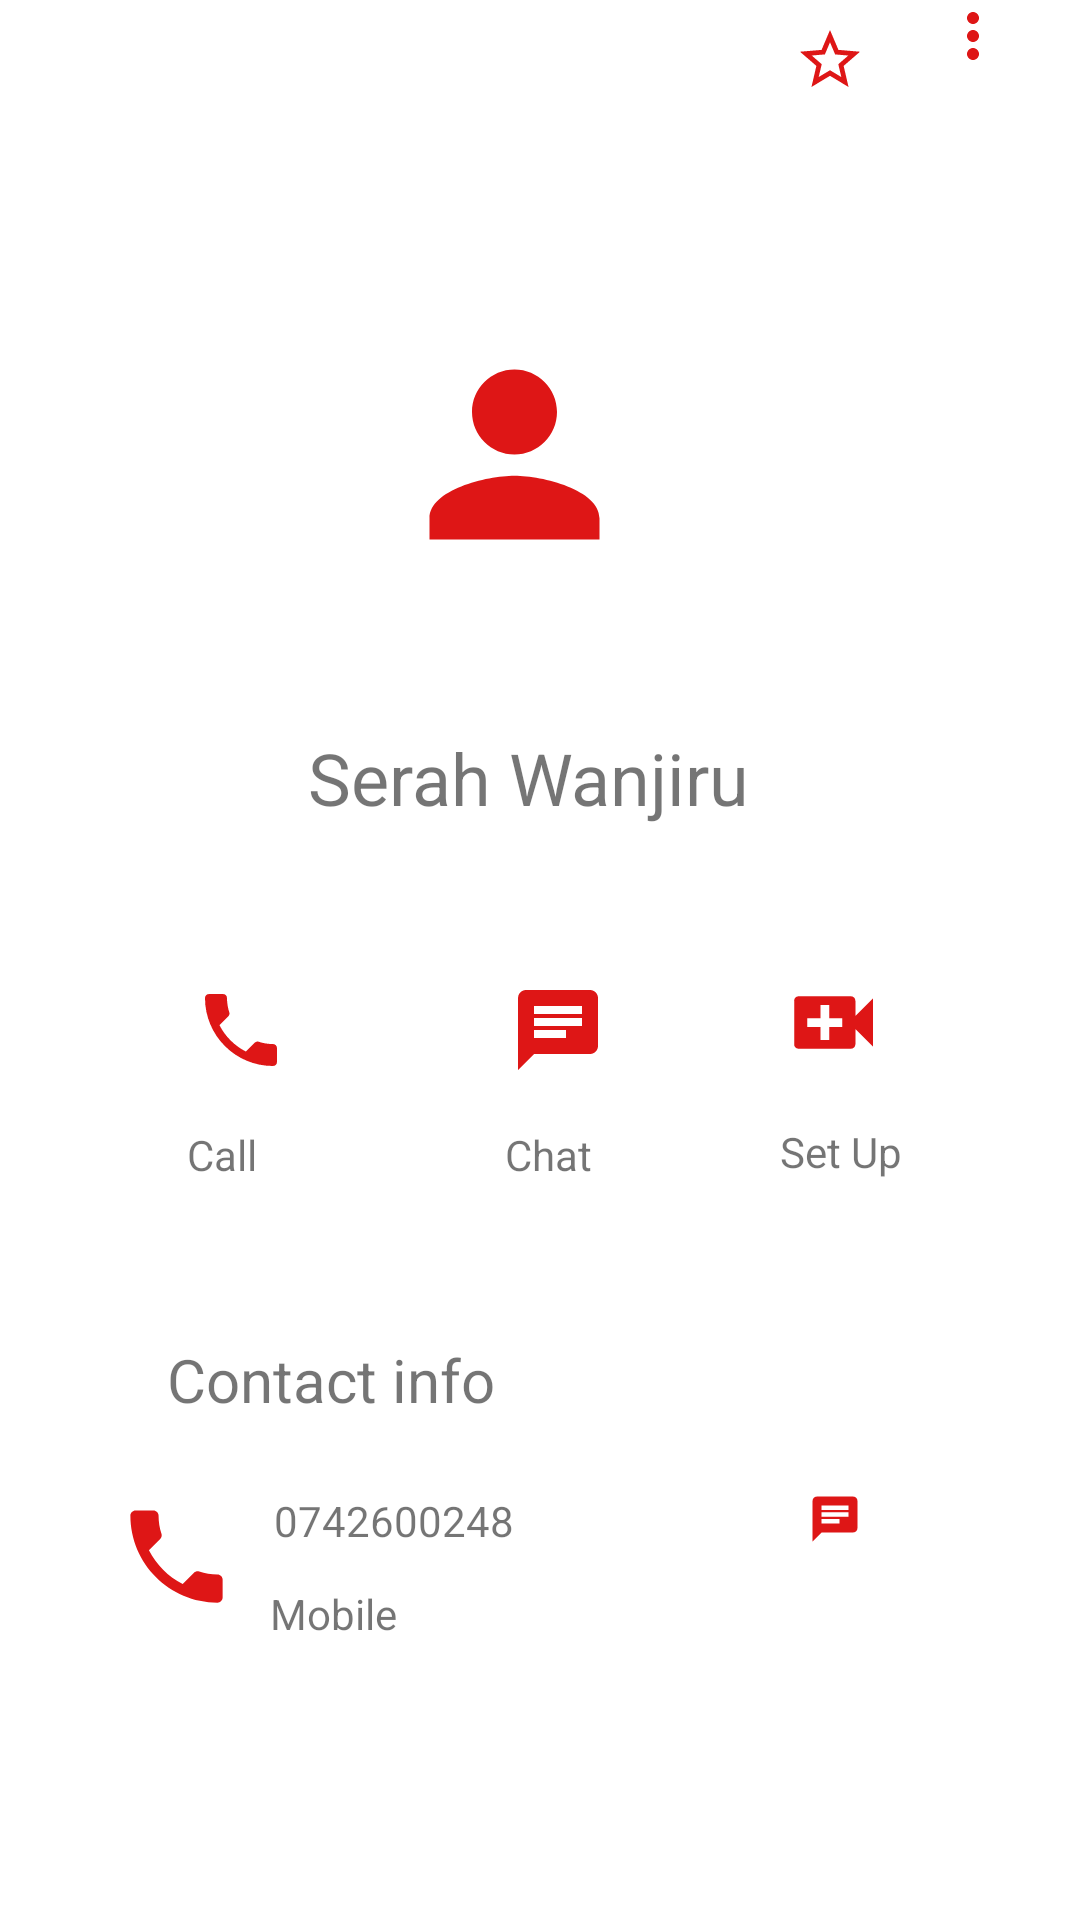

Icon click points for this 1080*1920 phone screenshot, format (x,y):
more vert: (973,36)
person: (514,454)
phone: (241,1030), (176,1556)
star border: (830,58)
video call: (833,1022)
